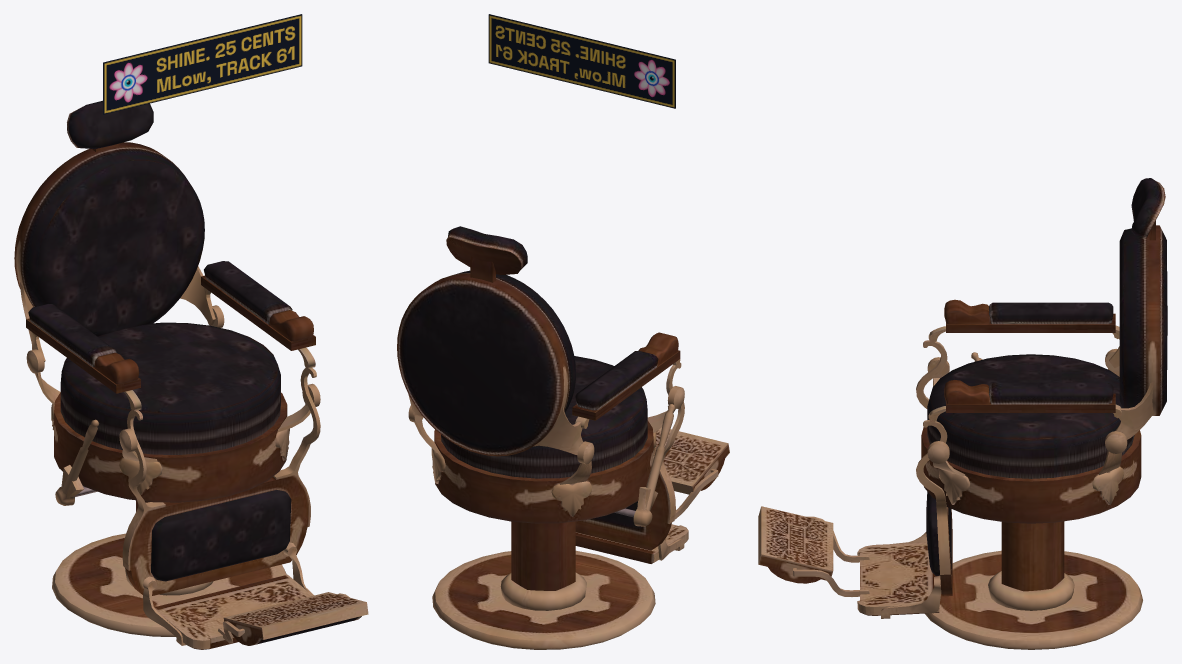
File: nyb_fisherking_shine.glb
3 views of the same model, side by side, from view 1: azimuth 30°, elevation 25°; view 2: azimuth 150°, elevation 25°; view 3: azimuth 270°, elevation 25° (orthographic). The views are drawn at different scales.
Visible parts, largest first — view 1: BarberShopChair_01, add_lbl_45bc40453d.png; view 2: BarberShopChair_01, add_lbl_45bc40453d.png; view 3: BarberShopChair_01.
Boxes of the visible parts, box(x1,y1,x2,y2) form: BarberShopChair_01: box(14, 100, 368, 649); add_lbl_45bc40453d.png: box(103, 14, 302, 114); BarberShopChair_01: box(397, 226, 729, 649); add_lbl_45bc40453d.png: box(488, 14, 675, 108); BarberShopChair_01: box(758, 178, 1167, 649).
Bounding box in the file's own units: 0.7565 × 1.95 × 1.33.
2 materials, 2 textured.
